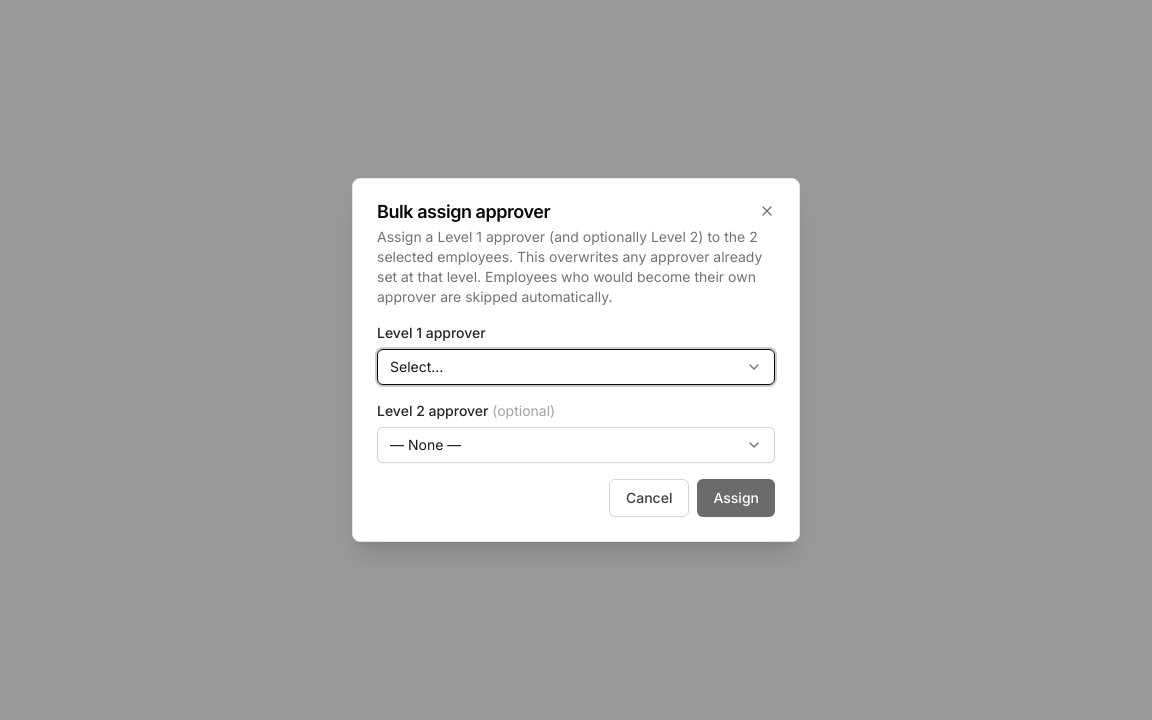
Test case: BulkAssignDialog › disables Assign until an L1 approver is chosen
The width and height of the screenshot is (1152, 720).
Expected: the button "Assign" is disabled, [697,479,775,517]
Step 1. Click the button with aria-label "level 1 approver" → (417, 366), box [377,349,775,385]
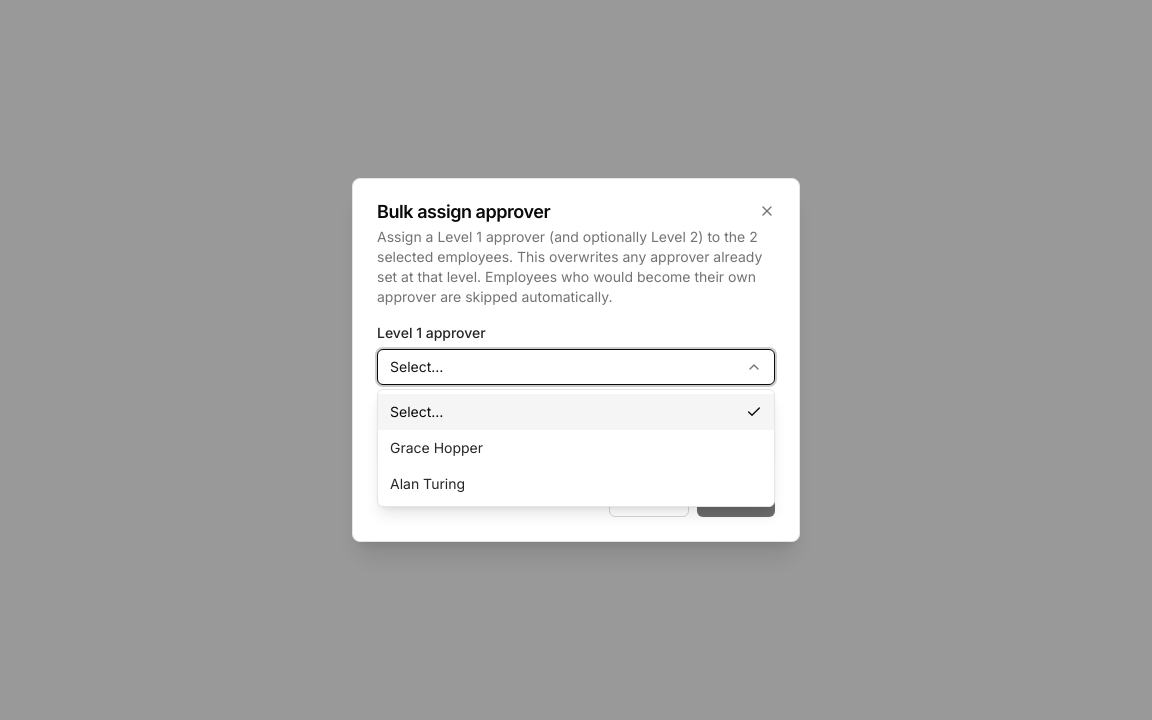
Step 2. Click the option "Grace Hopper" → (437, 448), box [390,439,483,456]
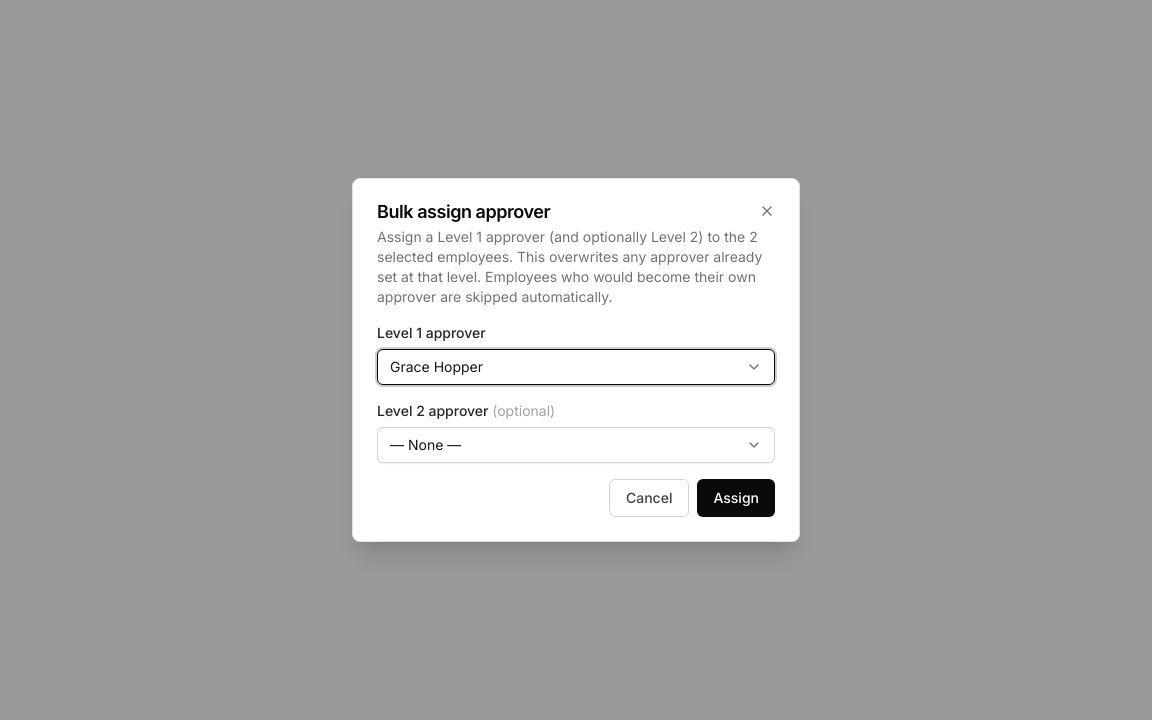
Expected: the button "Assign" is enabled, [697,479,775,517]
